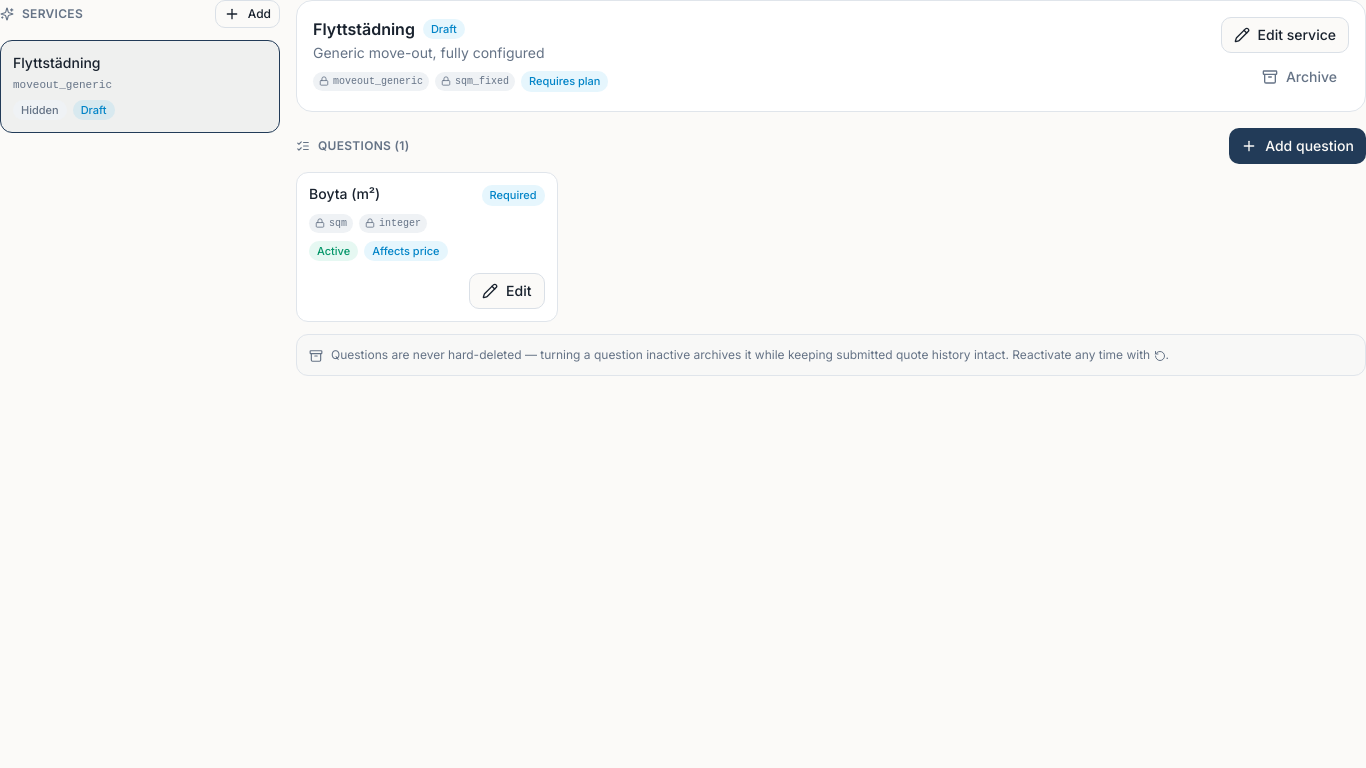
ServicesFieldsEditor — GPM-8 sqm_fixed enable/public guard alignment › does not auto-enable a ready sqm_fixed service — it stays hidden until explicitly enabled
expect the text "Draft" below "Services" is shown: met, box 81,102 -> 106,116
Click the button "Edit service": (1285, 35) 1221,17 -> 1349,53
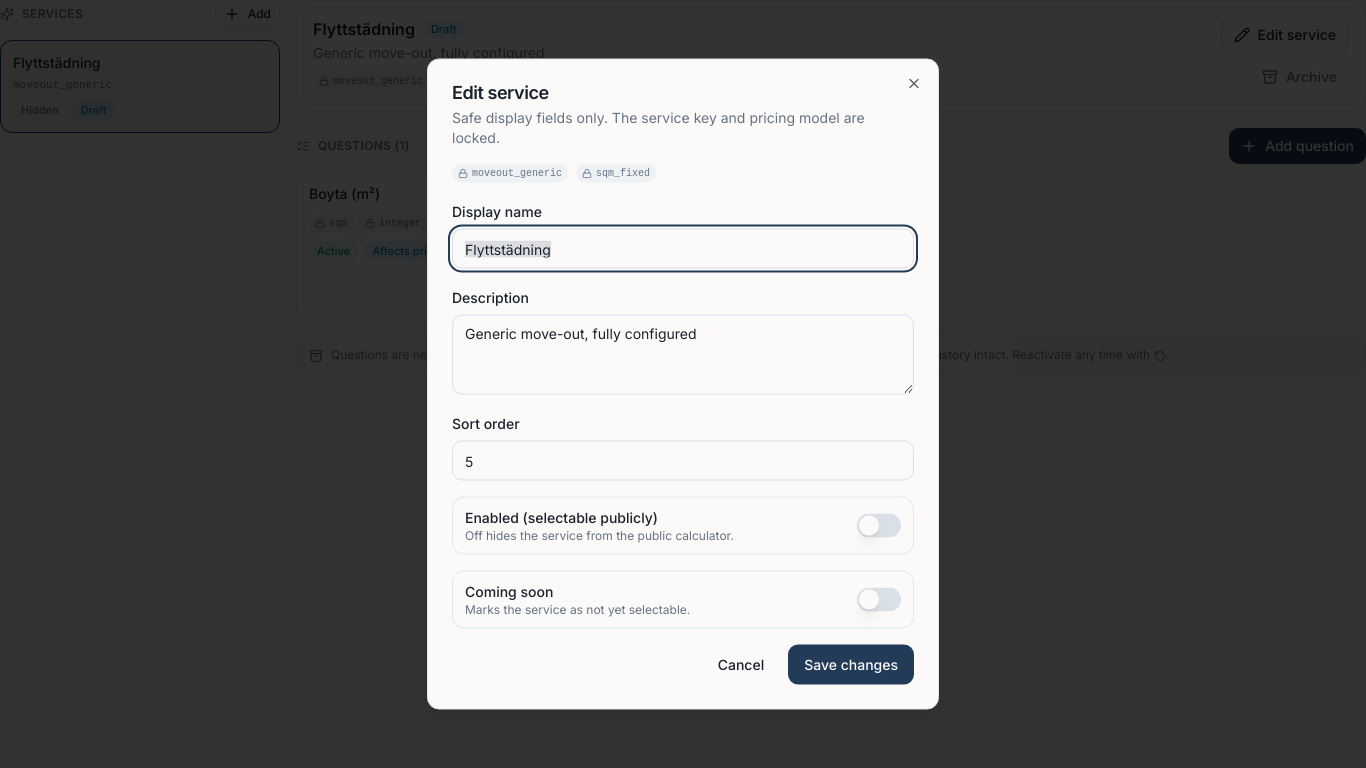
expect the switch named "Service enabled" is not checked: met, box 857,514 -> 901,538
